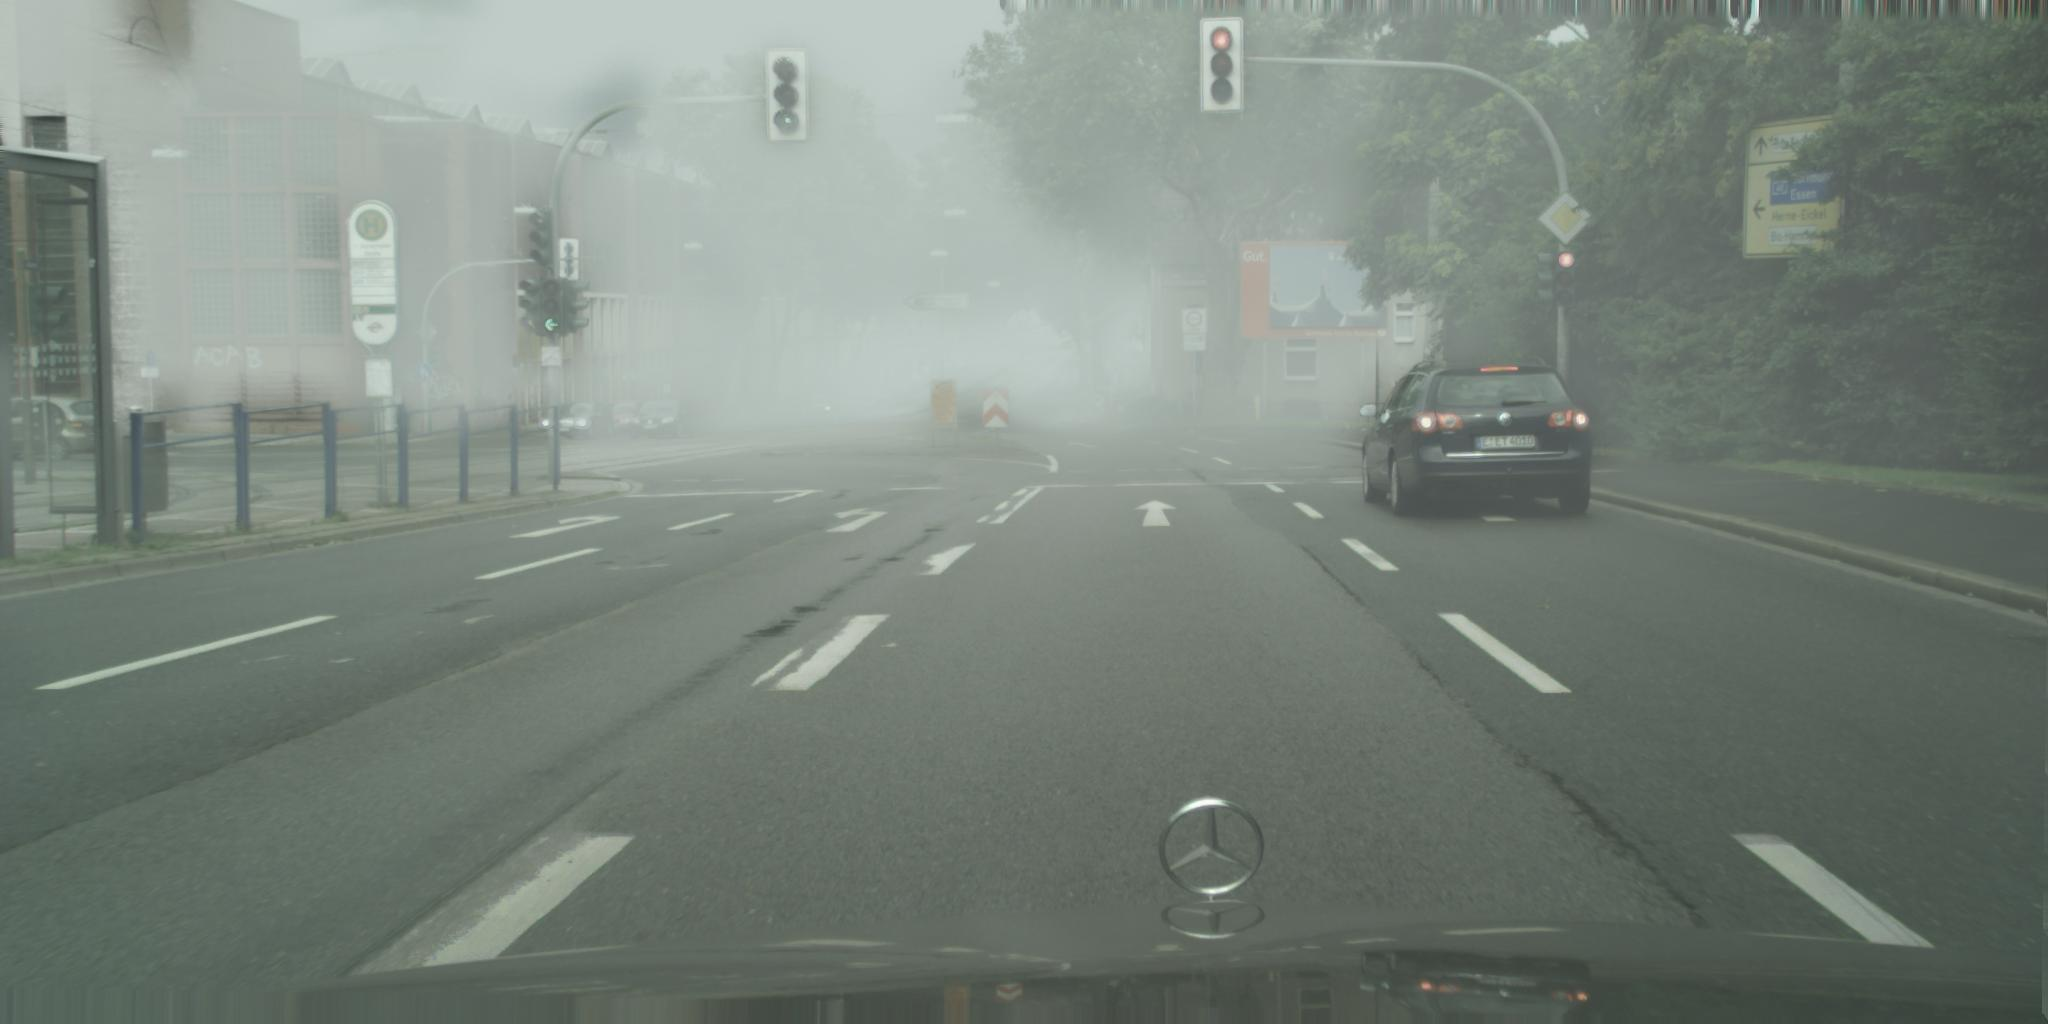car: (1358, 354, 1595, 517), (630, 398, 699, 440), (555, 400, 616, 441), (600, 401, 652, 438), (802, 394, 841, 424), (1075, 394, 1110, 418), (1095, 387, 1118, 404), (1024, 325, 1034, 333), (1034, 329, 1045, 334)
